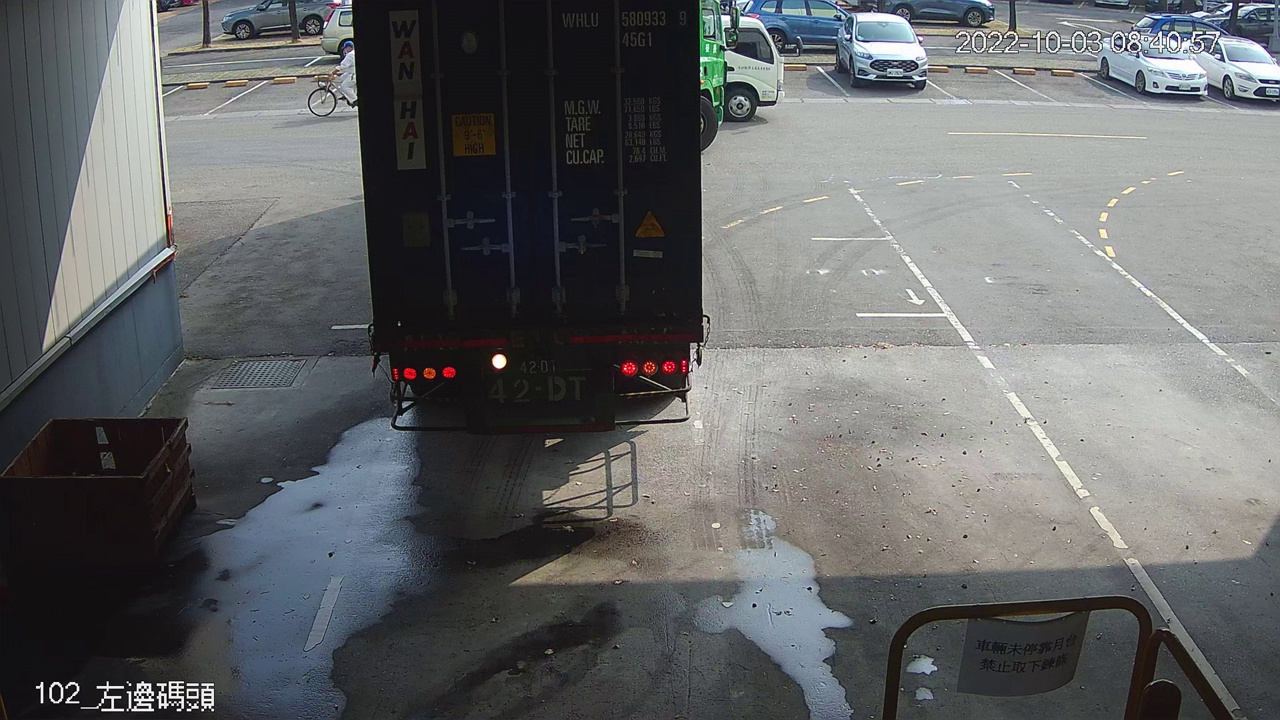container: (556, 5, 693, 55)
